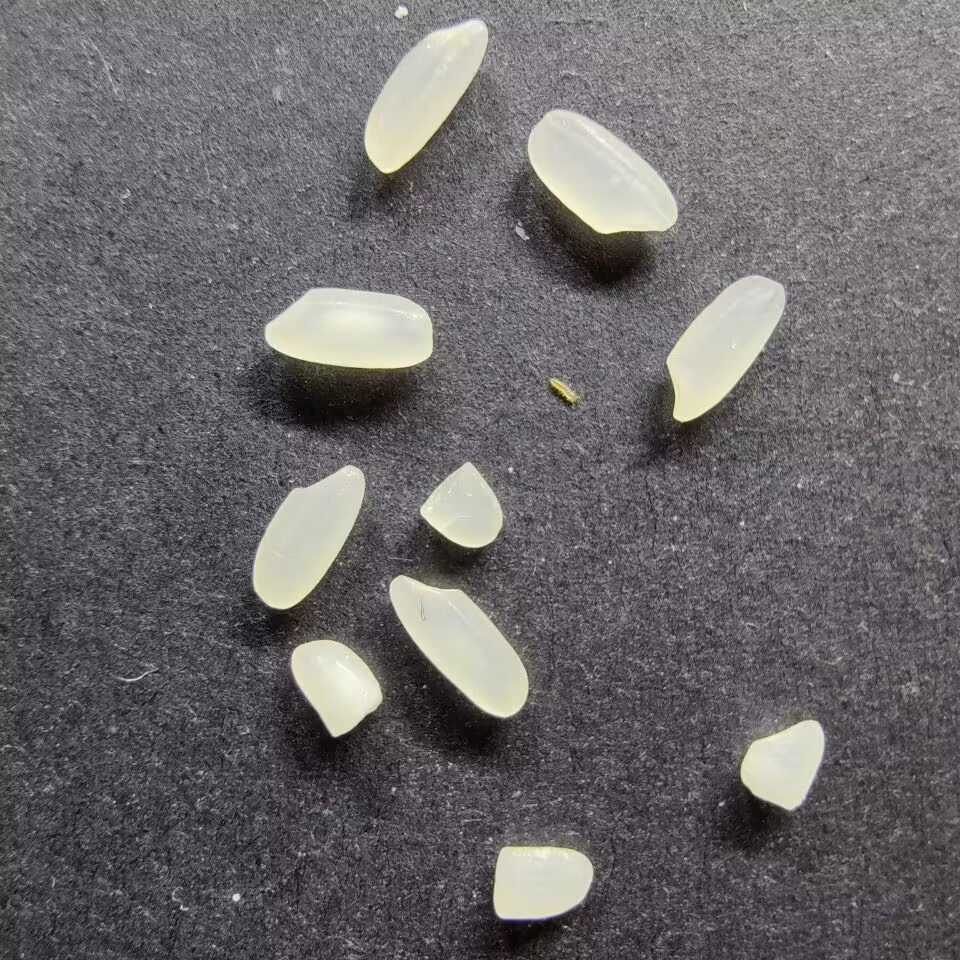broken: (288, 638, 383, 738), (738, 715, 825, 812), (490, 844, 594, 921), (416, 459, 504, 549)
others: (545, 375, 582, 409)
rice: (386, 573, 530, 719), (360, 17, 490, 175), (525, 107, 679, 235), (664, 274, 786, 423), (248, 462, 367, 610), (263, 285, 434, 370)
